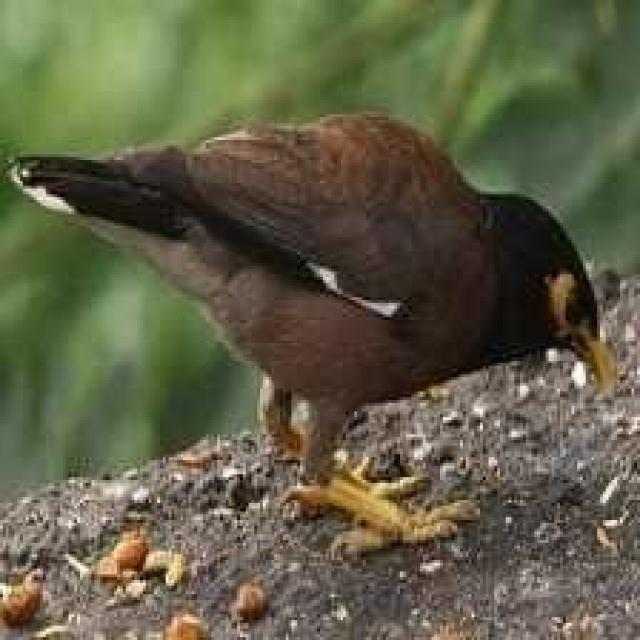bird: (11, 103, 622, 550)
